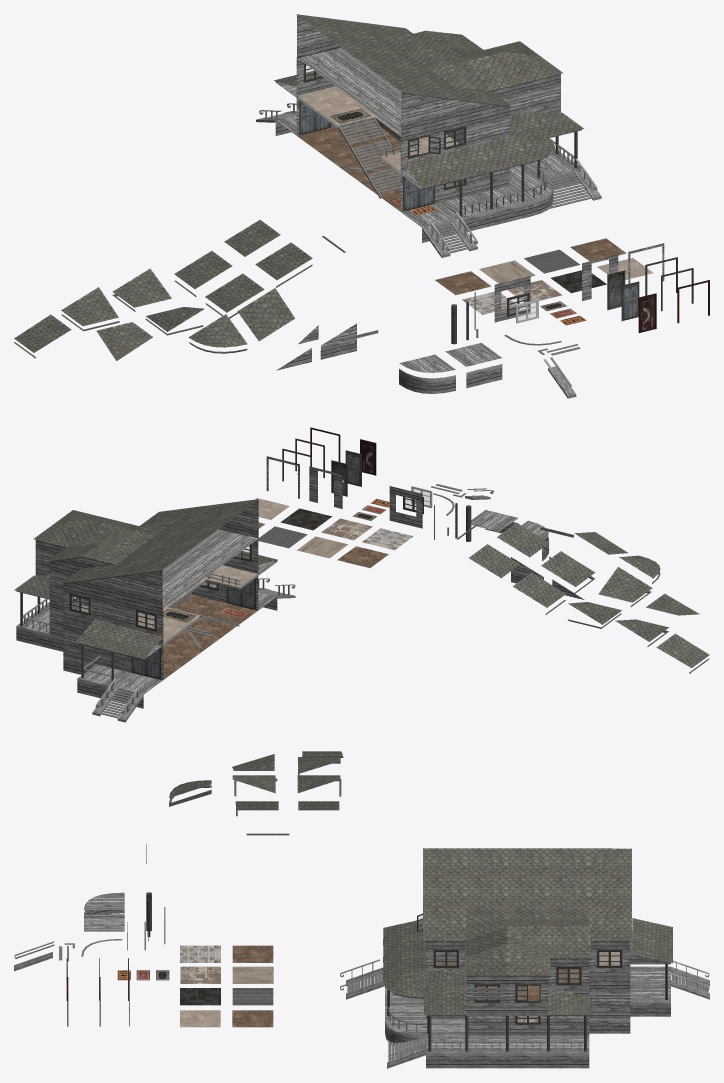
The model's file is modular_kit_horror_housev2_update.glb.
3 renders of one model, top to bottom at view 1: azimuth 30°, elevation 25°; view 2: azimuth 150°, elevation 25°; view 3: azimuth 270°, elevation 25°, orthographic. The views are drawn at different scales.
Visible parts, largest first — view 1: Object_3, Object_2; view 2: Object_3, Object_2; view 3: Object_3, Object_2.
Part boxes in pixels (box(x1,y1,x2,y2)): Object_3: box(14, 14, 653, 398); Object_2: box(14, 16, 709, 372); Object_3: box(16, 474, 709, 722); Object_2: box(14, 427, 709, 680); Object_3: box(14, 751, 709, 1068); Object_2: box(64, 755, 670, 1035).
Bounding box in the file's own units: 113 × 25.18 × 114.
Materials: 1 (1 with a texture image).
